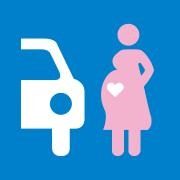Parking Lot Cars: (15, 5, 157, 162)
